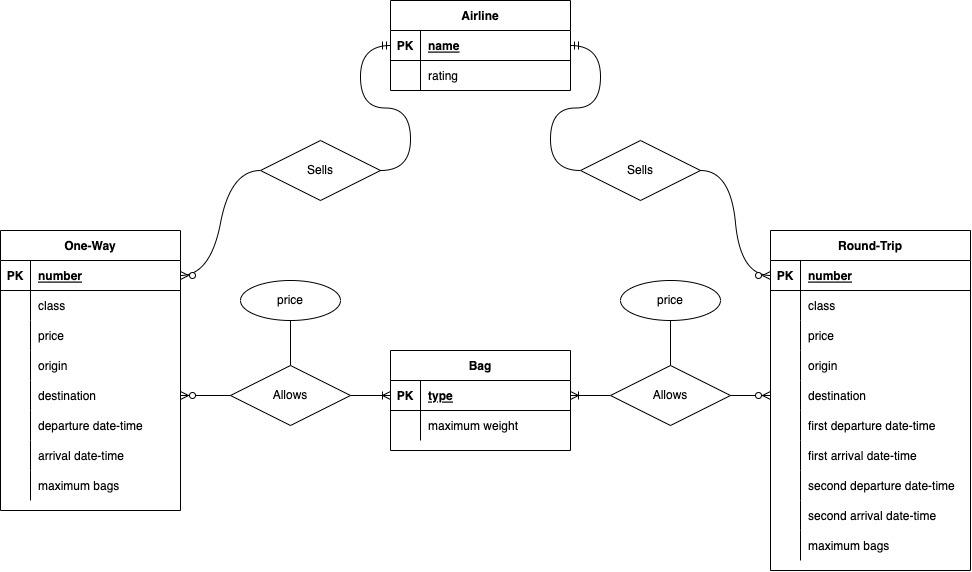attribute: (618, 281, 724, 321), (240, 280, 343, 321)
entity: (768, 229, 972, 572), (1, 229, 182, 511), (389, 351, 573, 452), (389, 1, 573, 93)
relationship: (582, 139, 699, 202), (261, 140, 381, 200), (613, 366, 731, 426), (231, 367, 349, 425)
